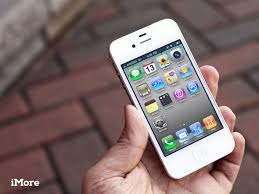iphone: (107, 11, 237, 179)
iphone4: (108, 11, 238, 179)
